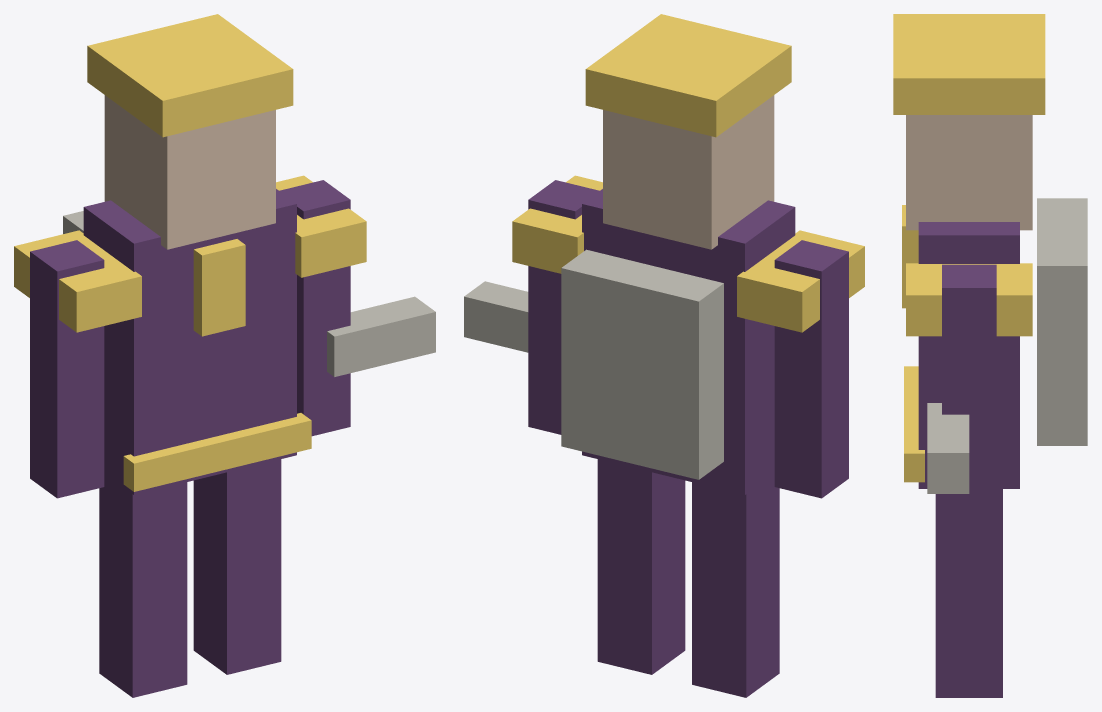
The model's file is 11_dax_trenchmark_scout_near_observation.glb.
The picture shows the model from 3 angles, left to right: view 1: azimuth 30°, elevation 25°; view 2: azimuth 150°, elevation 25°; view 3: azimuth 270°, elevation 25°; orthographic projection.
Visible parts, largest first — view 1: Dax Trenchmark, Scout near Observation; view 2: Dax Trenchmark, Scout near Observation; view 3: Dax Trenchmark, Scout near Observation.
Part boxes in pixels (box(x1,y1,x2,y2)): Dax Trenchmark, Scout near Observation: box(14, 14, 435, 697); Dax Trenchmark, Scout near Observation: box(464, 14, 864, 697); Dax Trenchmark, Scout near Observation: box(893, 14, 1087, 697).
Bounding box in the file's own units: 1.04 × 1.63 × 0.4662.
